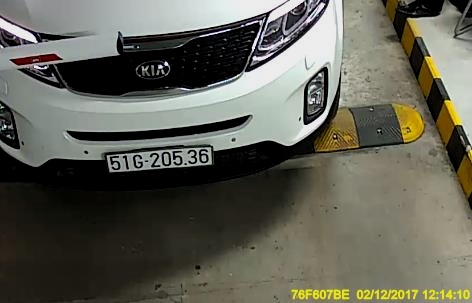plate: (103, 144, 219, 172)
